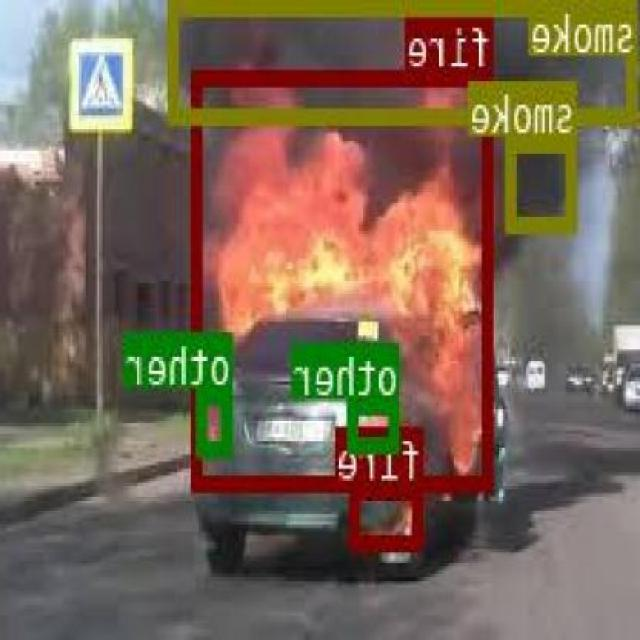fire: (194, 69, 496, 486), (352, 481, 426, 548)
other: (349, 398, 402, 448), (200, 387, 236, 453)
smoke: (173, 0, 639, 118), (508, 136, 578, 230)
